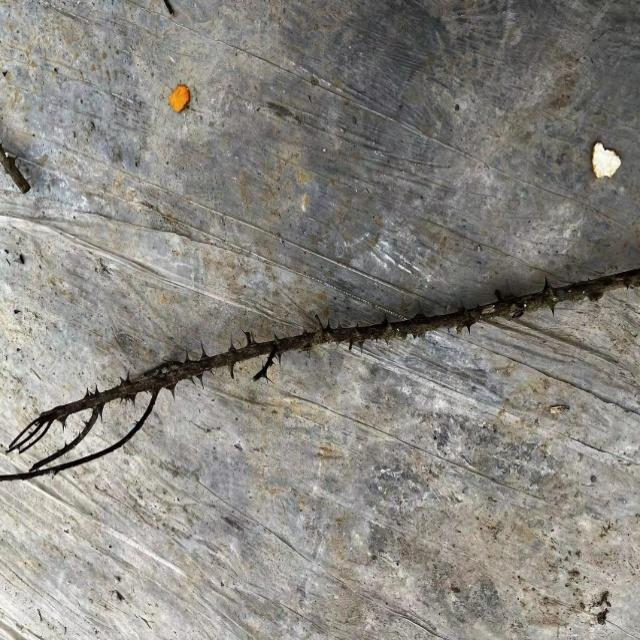branch: (0, 274, 640, 482)
